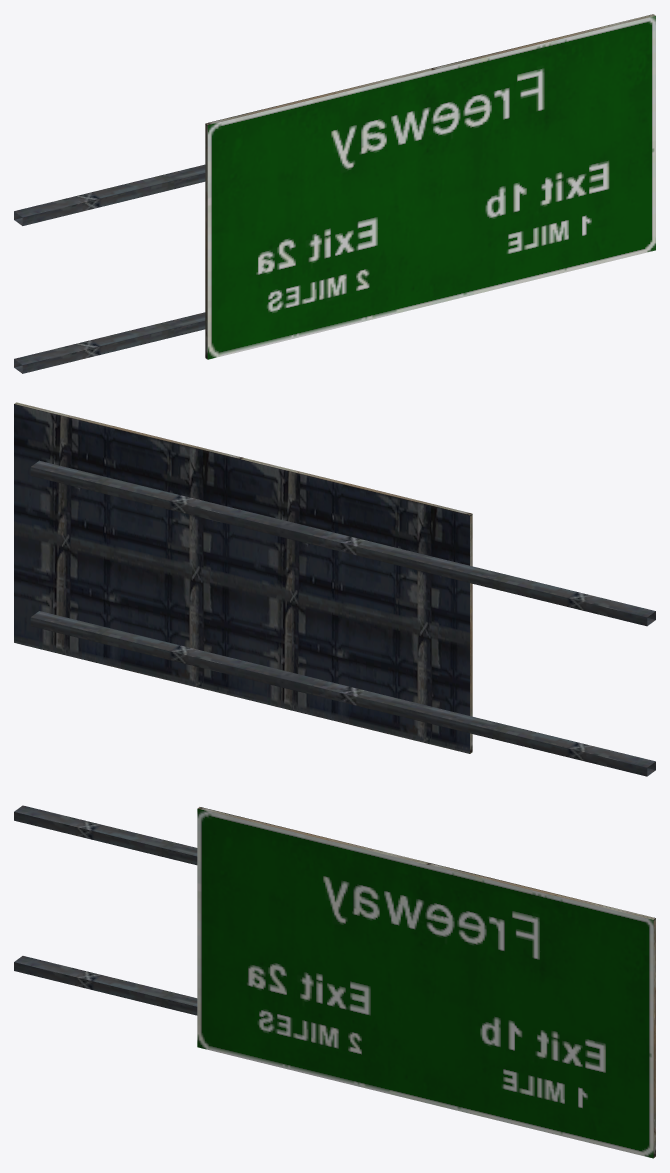
Rendered from freeway_sign_sidemounted.fbx.
3 renders of one model, top to bottom at view 1: azimuth 30°, elevation 25°; view 2: azimuth 150°, elevation 25°; view 3: azimuth 330°, elevation 25°, orthographic.
Parts seen in each view (by area): view 1: mesh_1, mesh_2, mesh_3, mesh_0; view 2: mesh_0, mesh_3, mesh_2; view 3: mesh_1, mesh_3, mesh_2, mesh_0.
Boxes of the visible parts, left/top/right/bottom form: mesh_1: left=207, top=16, right=655, bottom=359; mesh_2: left=14, top=312, right=205, bottom=373; mesh_3: left=14, top=164, right=205, bottom=225; mesh_0: left=205, top=14, right=655, bottom=359; mesh_0: left=14, top=402, right=472, bottom=753; mesh_3: left=30, top=460, right=655, bottom=626; mesh_2: left=30, top=611, right=655, bottom=776; mesh_1: left=197, top=808, right=653, bottom=1158; mesh_3: left=14, top=805, right=197, bottom=865; mesh_2: left=14, top=956, right=197, bottom=1015; mesh_0: left=198, top=807, right=655, bottom=1157.
Size of the model in its own units: 760 by 270 by 23.
2 materials, 2 textured.
